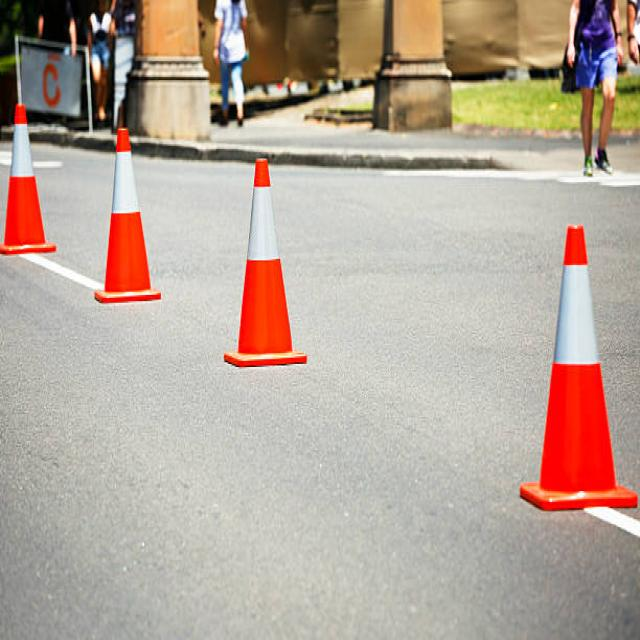Traffic Cone: (504, 188, 640, 512), (212, 136, 320, 394), (90, 111, 170, 319), (0, 89, 60, 267)
